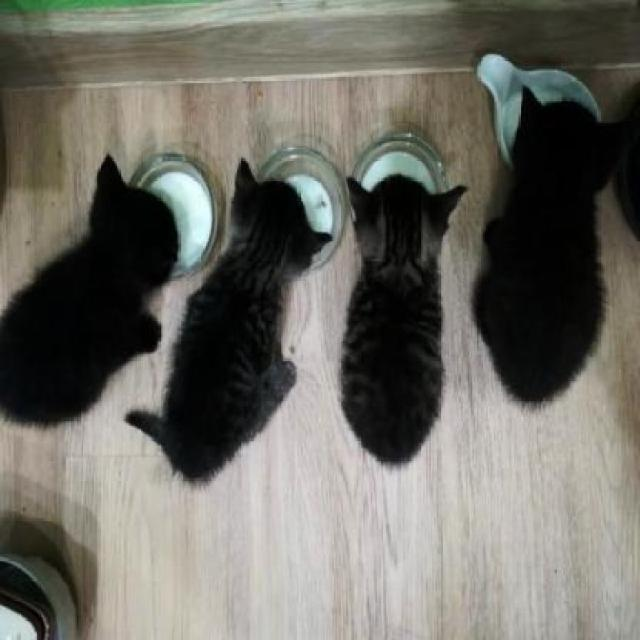cat: (159, 160, 335, 514), (470, 78, 632, 416), (0, 149, 186, 436), (334, 135, 468, 472)
